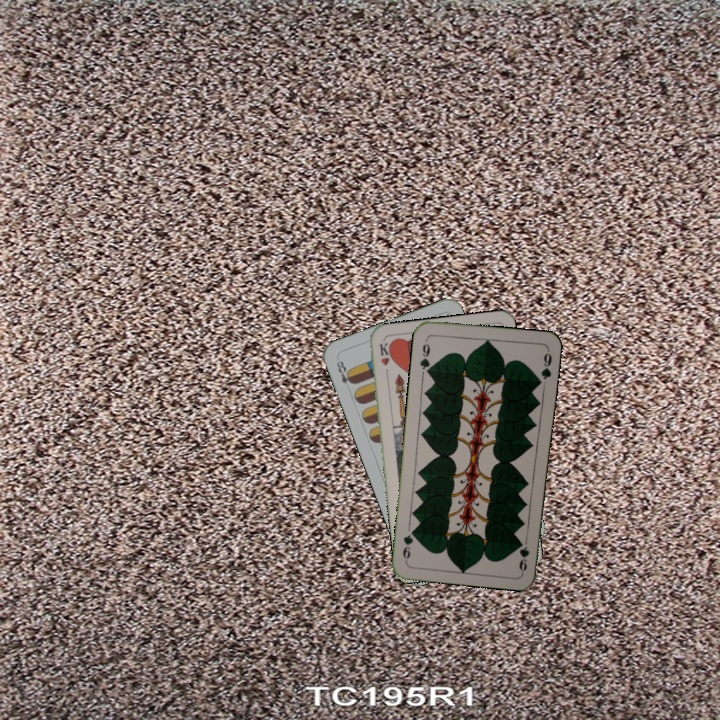E8: (332, 357, 357, 387)
G9: (416, 335, 433, 376), (516, 543, 532, 574)
HK: (375, 339, 393, 379)
